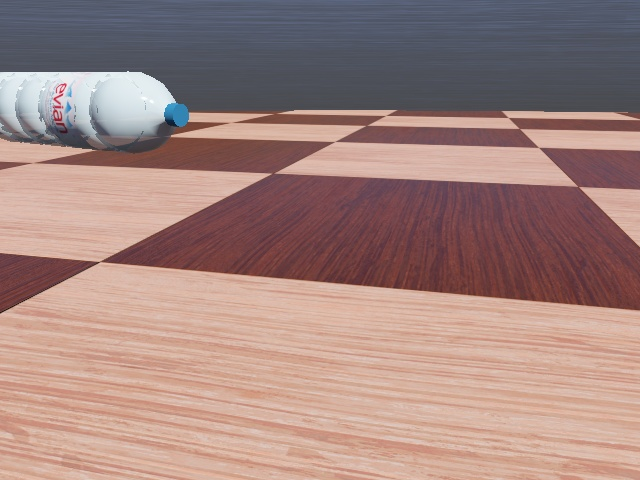chai_nhua: (0, 66, 190, 153)
